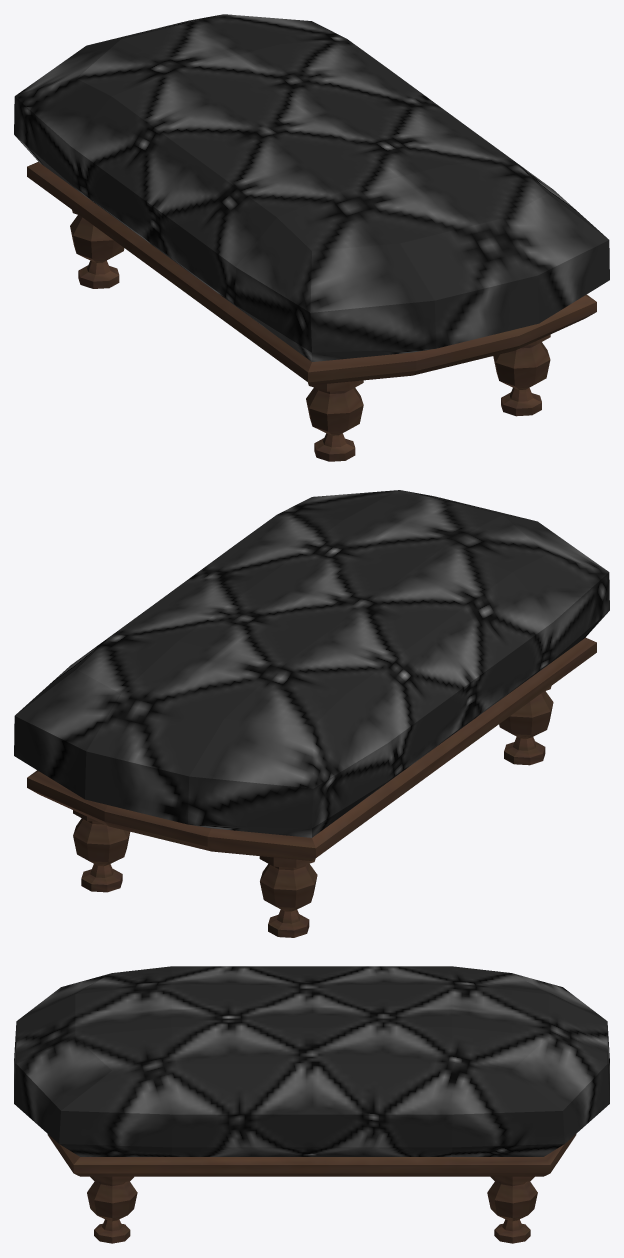
Rendered from Bench.fbx.
The picture shows the model from 3 angles, top to bottom: view 1: azimuth 30°, elevation 25°; view 2: azimuth 150°, elevation 25°; view 3: azimuth 270°, elevation 25°; orthographic projection. The views are drawn at different scales.
Visible parts, largest first — view 1: Cube; view 2: Cube; view 3: Cube.
Boxes of the visible parts, x1,y1,x2,y2 form: Cube: (14, 14, 609, 461); Cube: (14, 490, 609, 937); Cube: (14, 966, 609, 1243).
Size of the model in its own units: 109 by 73.9 by 208.
Materials: 1 (1 with a texture image).
